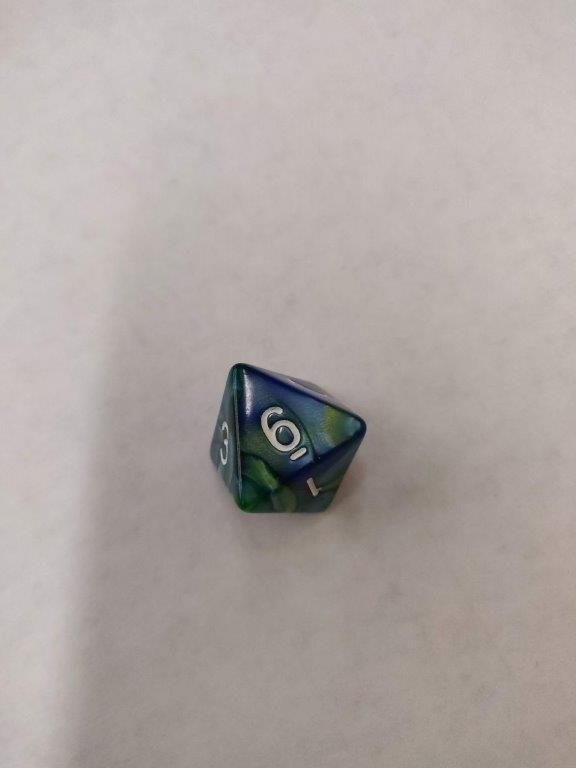d8-6: (206, 364, 368, 517)
